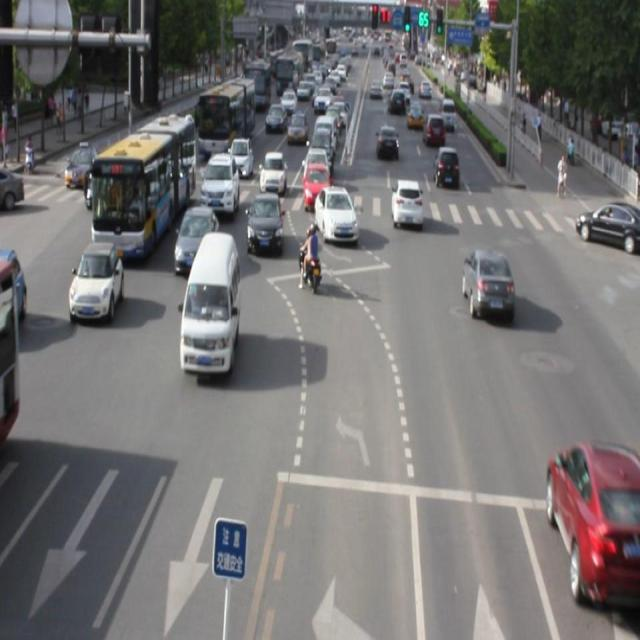car: (546, 439, 640, 608), (70, 239, 124, 326), (461, 245, 514, 322), (176, 203, 220, 274), (313, 184, 358, 241), (246, 192, 284, 256), (390, 176, 422, 228)
truck: (180, 232, 241, 374)
van: (90, 110, 194, 259)
